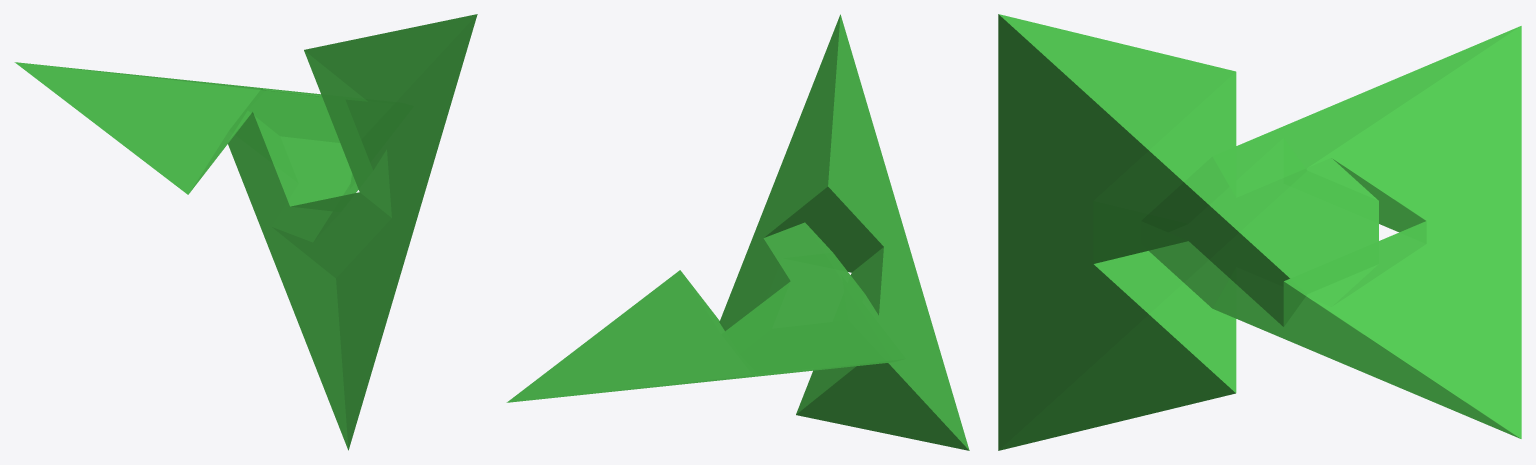
File: HeptagonalDodecahedron_E.obj
3 renders of one model, left to right at view 1: azimuth 30°, elevation 25°; view 2: azimuth 150°, elevation 25°; view 3: azimuth 270°, elevation 25°, orthographic. The views are drawn at different scales.
Bounding box in the file's own units: 2.4 × 2.4 × 2.2.
